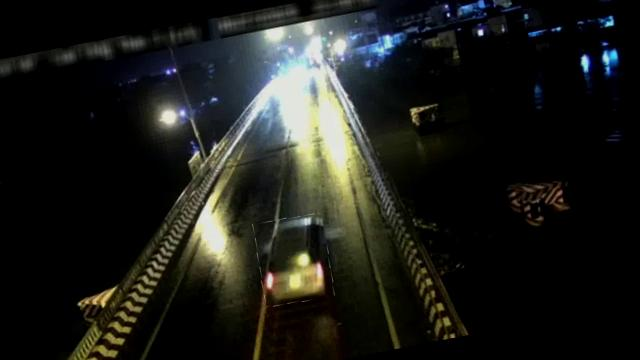Car: (251, 211, 336, 308)
